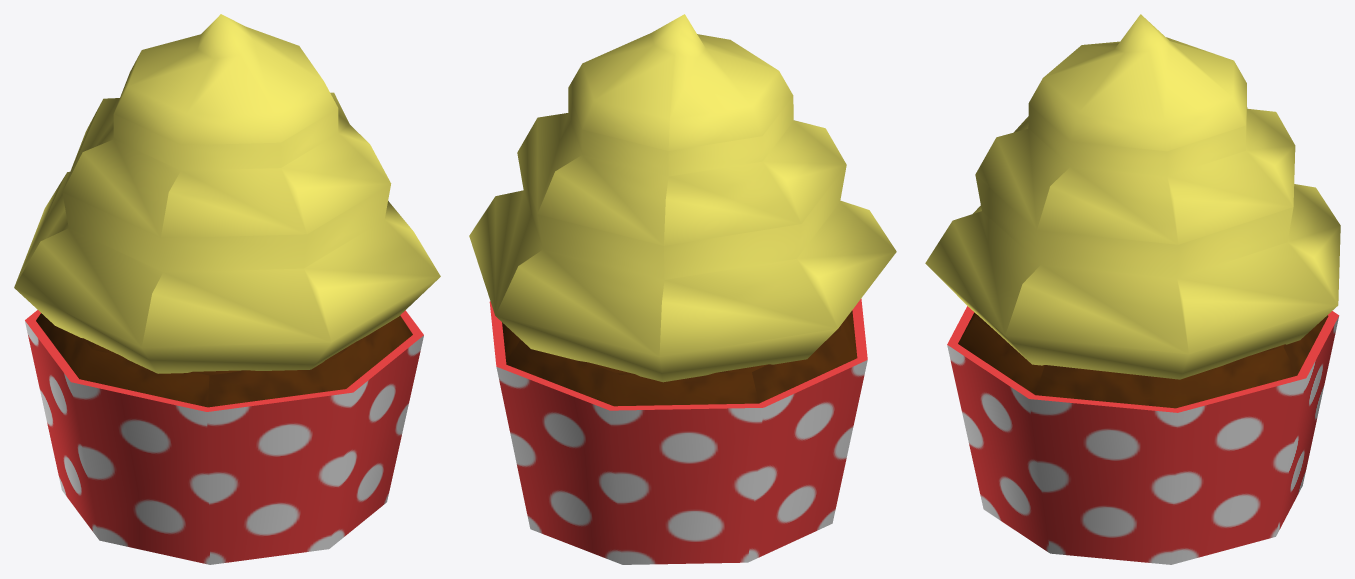
Rendered from Cupcake_A_2.FBX.
The picture shows the model from 3 angles, left to right: view 1: azimuth 30°, elevation 25°; view 2: azimuth 150°, elevation 25°; view 3: azimuth 270°, elevation 25°; orthographic projection.
Parts seen in each view (by area): view 1: Cupcake; view 2: Cupcake; view 3: Cupcake.
Part boxes in pixels (box(x1,y1,x2,y2)): Cupcake: box(14, 14, 440, 564); Cupcake: box(469, 14, 896, 564); Cupcake: box(925, 14, 1340, 564).
Bounding box in the file's own units: 34.42 × 43.01 × 33.65.
